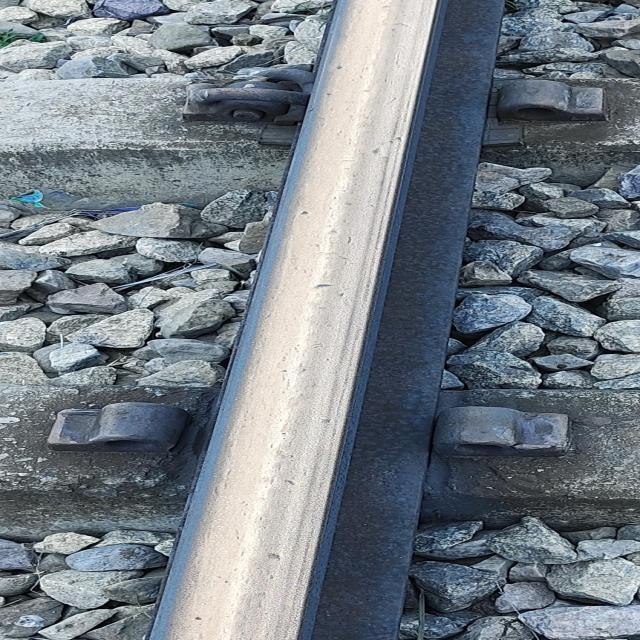Good Fasteners: (156, 74, 307, 127)
Missing Fastener: (405, 398, 595, 473), (4, 394, 197, 451), (479, 77, 640, 140)
